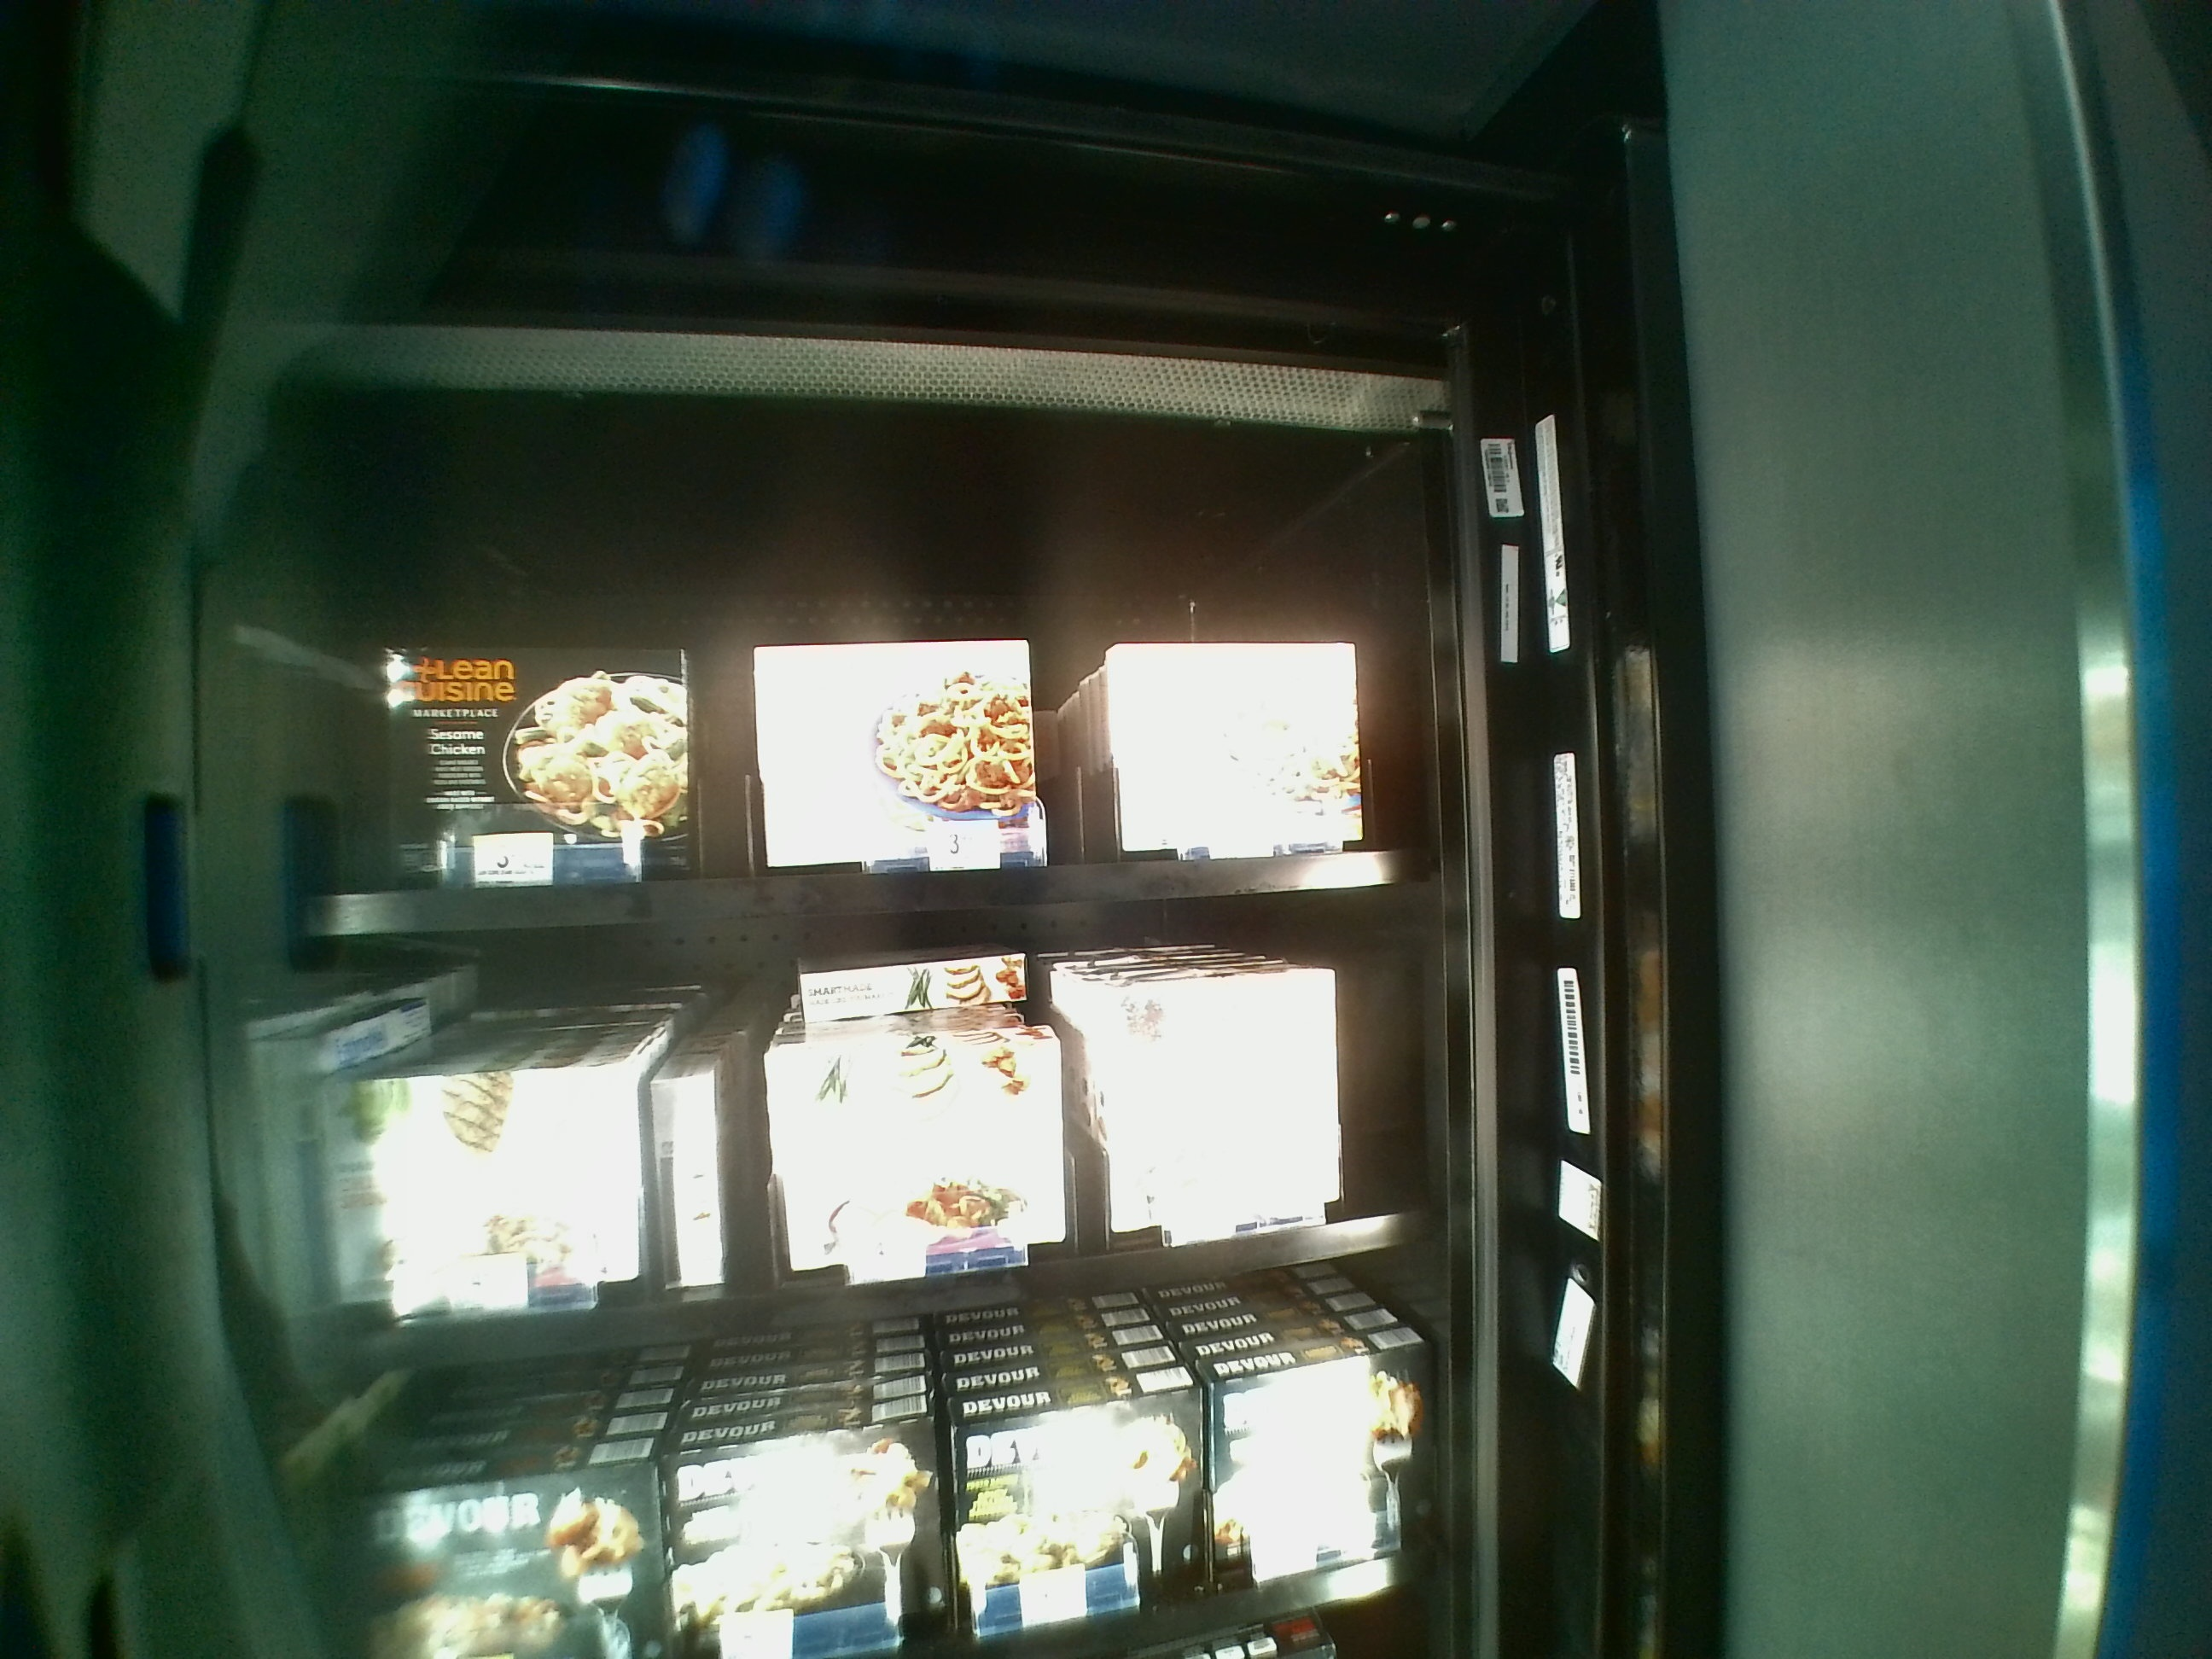shelf: (307, 481, 1411, 932), (310, 939, 1423, 1364)
